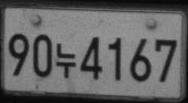0: (32, 33, 53, 77)
1: (105, 36, 129, 81)
4: (79, 36, 102, 80)
6: (129, 37, 152, 82)
7: (155, 39, 177, 82)
9: (8, 32, 30, 75)
누: (55, 41, 76, 78)
